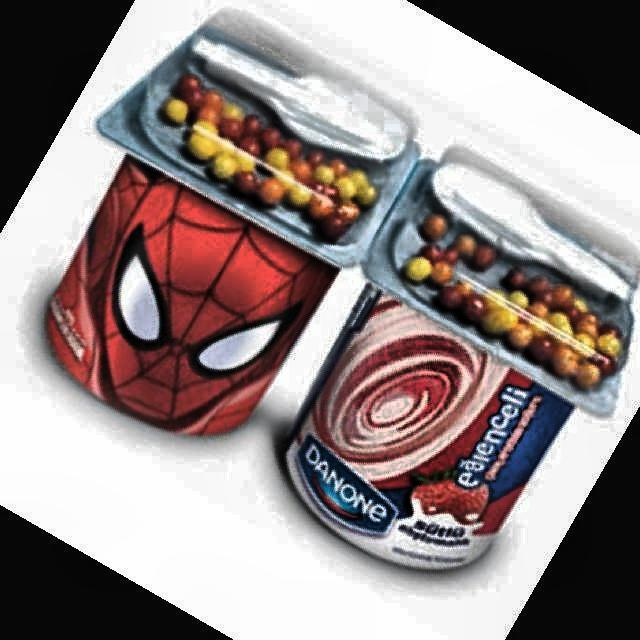plastic: (48, 12, 640, 569)
